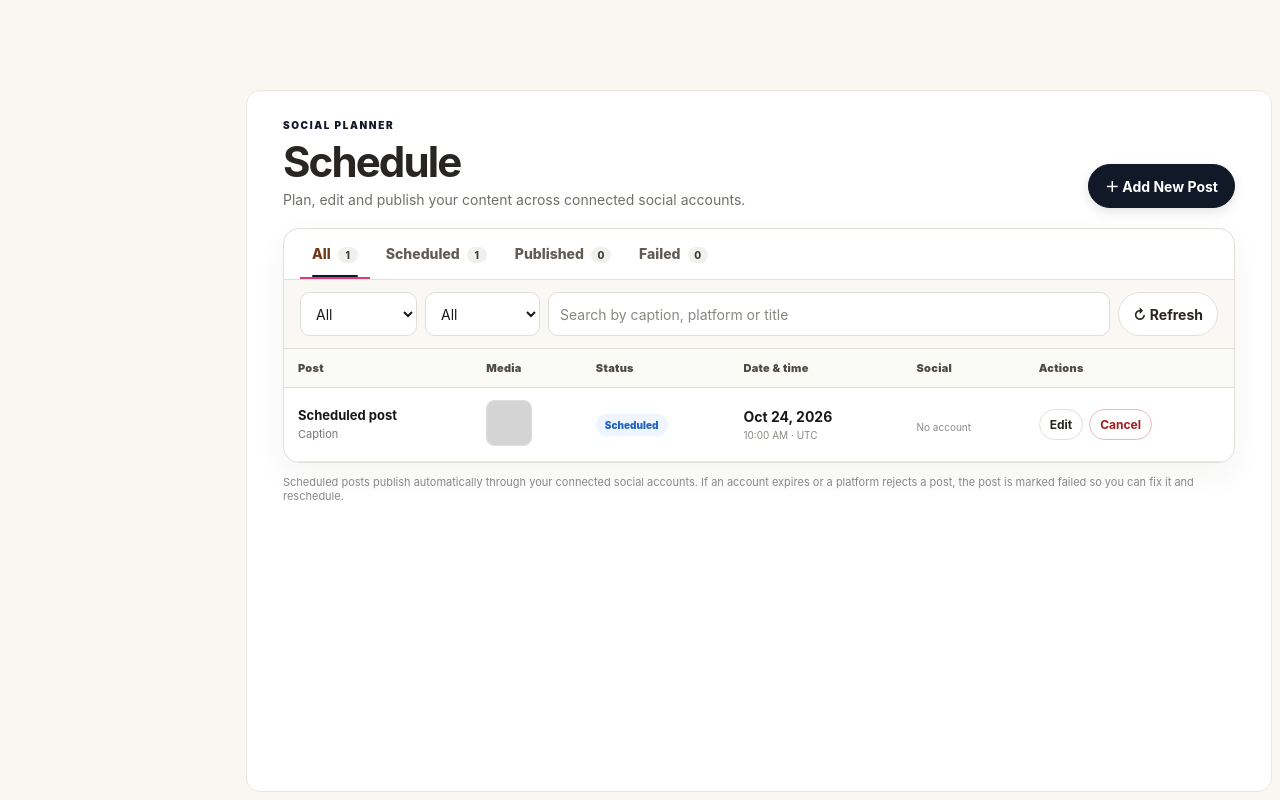
Test: defers thumbnail loading in the planner and previous-generation list
Expected: the text "Scheduled post" is shown, [298,407,397,423]
Click the button "＋ Add New Post" at (1162, 186), box [1088,164,1235,208]
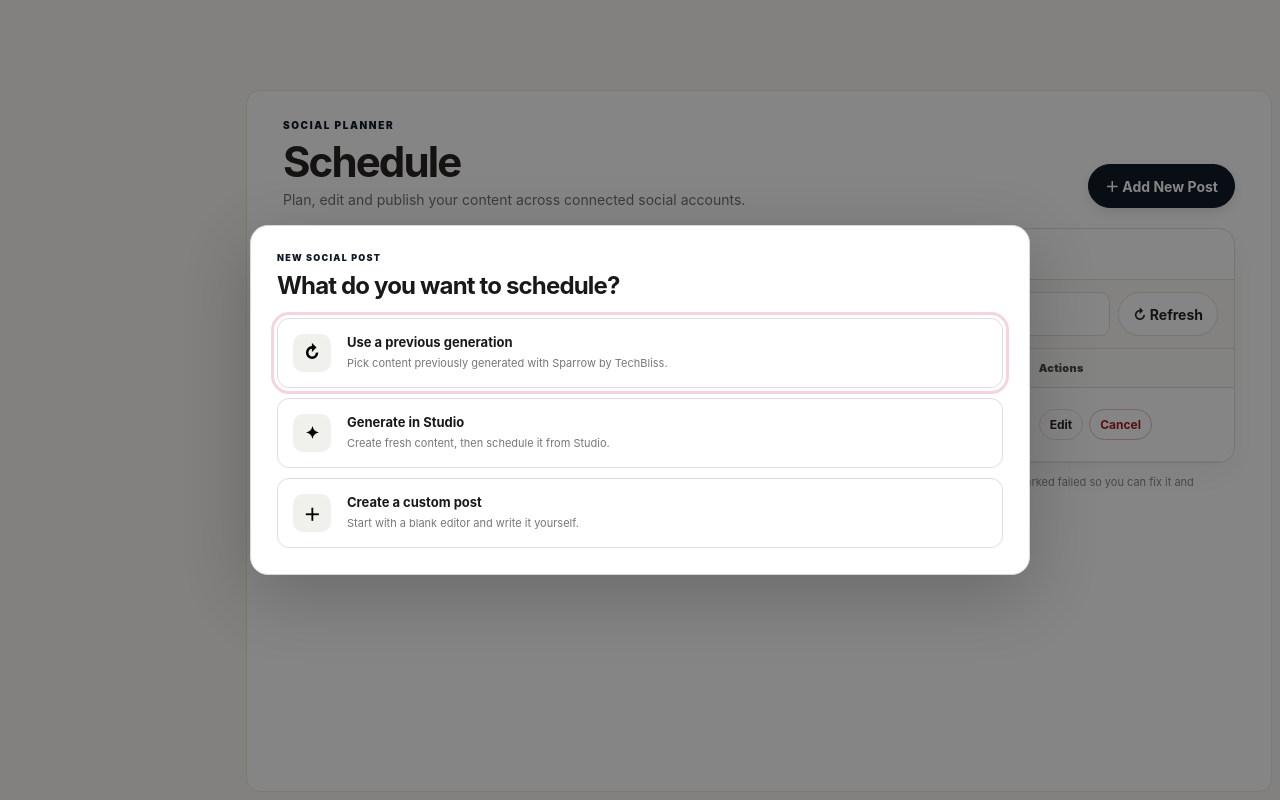
Click the button "Use a previous generation" at (640, 353), box [277,318,1003,388]
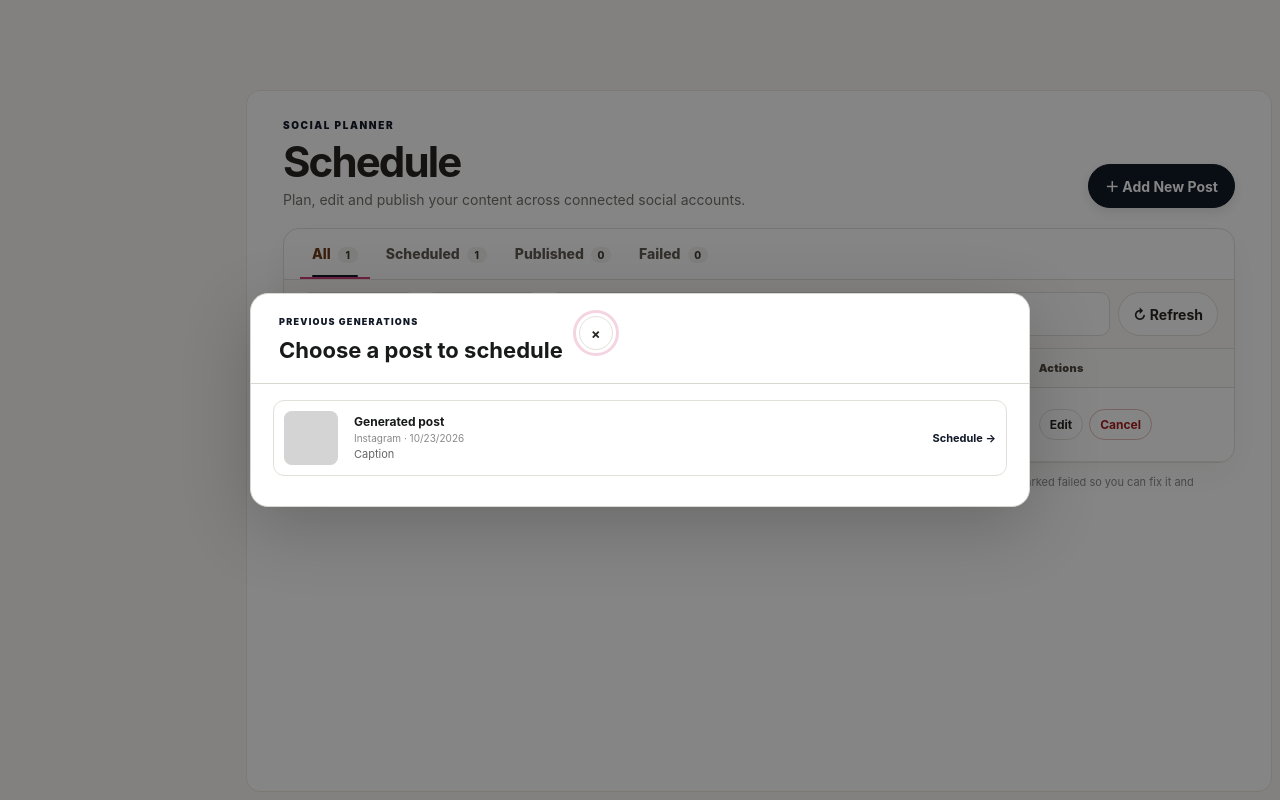
Now the dialog "PREVIOUS GENERATIONS" is shown, box [250,293,1030,507]
